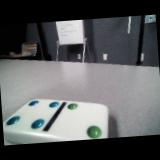domino: (3, 99, 108, 143)
